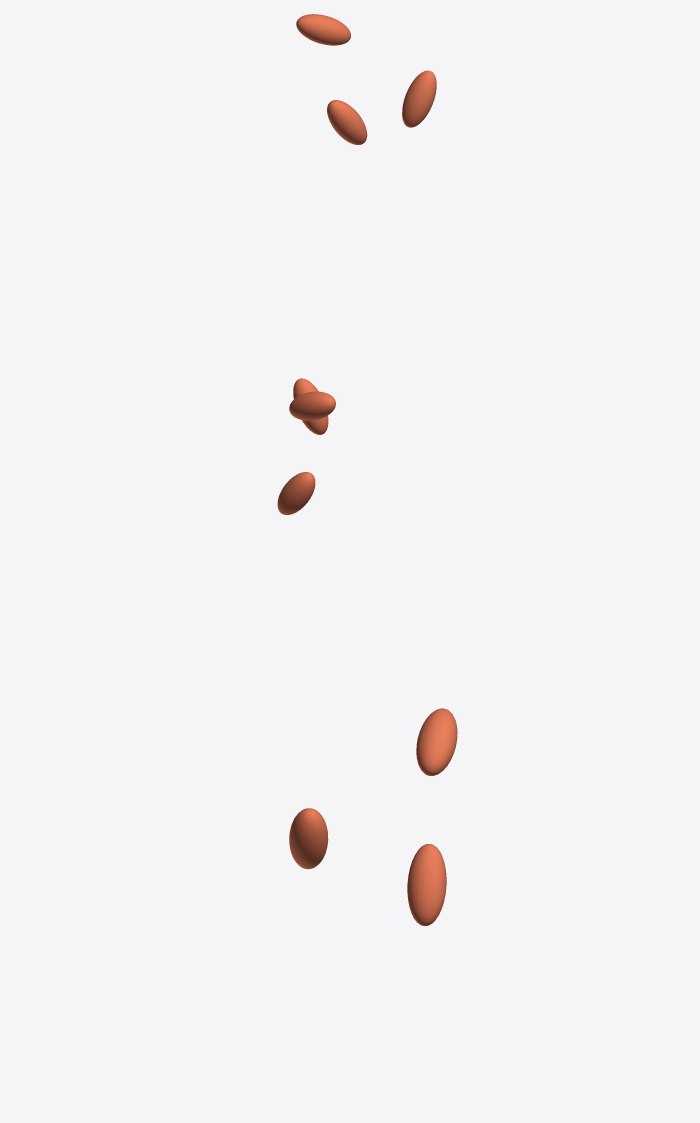
File: Sementes.glb
3 views of the same model, one above another, from view 1: azimuth 30°, elevation 25°; view 2: azimuth 150°, elevation 25°; view 3: azimuth 270°, elevation 25° (orthographic). The views are drawn at different scales.
Parts seen in each view (by area): view 1: Sphere.001, Sphere, Sphere.002; view 2: Sphere.002, Sphere, Sphere.001; view 3: Sphere.002, Sphere, Sphere.001.
Part boxes in pixels (left/top/right/bottom): Sphere.001: left=402, top=70, right=436, bottom=127; Sphere: left=296, top=14, right=350, bottom=45; Sphere.002: left=327, top=100, right=367, bottom=144; Sphere.002: left=277, top=472, right=315, bottom=515; Sphere: left=289, top=391, right=335, bottom=420; Sphere.001: left=293, top=378, right=328, bottom=434; Sphere.002: left=407, top=844, right=446, bottom=925; Sphere: left=416, top=708, right=457, bottom=775; Sphere.001: left=289, top=808, right=328, bottom=869.
Size of the model in its own units: 2 by 0.8224 by 2.
